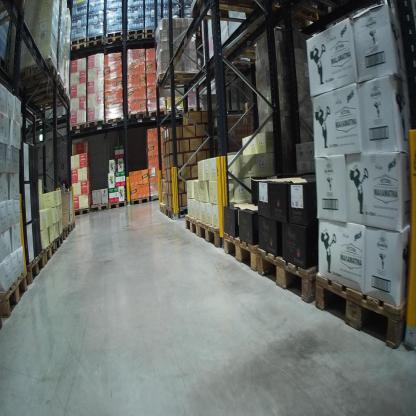pallet: (315, 263, 411, 346), (258, 227, 346, 298), (192, 2, 292, 36), (223, 223, 267, 275), (18, 56, 60, 100), (0, 271, 31, 322), (19, 75, 65, 105), (29, 89, 74, 118), (154, 70, 215, 87), (198, 216, 225, 252), (166, 199, 200, 222), (2, 3, 29, 30), (27, 249, 44, 287), (186, 211, 209, 237), (41, 239, 56, 269), (90, 197, 110, 215), (66, 118, 88, 134), (71, 204, 90, 222), (124, 107, 147, 121), (130, 193, 150, 209), (127, 30, 147, 46), (87, 115, 106, 130), (108, 198, 128, 212), (105, 111, 126, 124), (148, 106, 166, 121), (86, 36, 104, 48), (166, 107, 187, 117), (186, 103, 206, 113), (54, 230, 63, 252), (59, 224, 69, 243), (69, 42, 86, 52), (104, 34, 122, 43), (158, 199, 166, 217), (144, 33, 161, 41), (69, 219, 78, 234), (149, 193, 162, 203)
